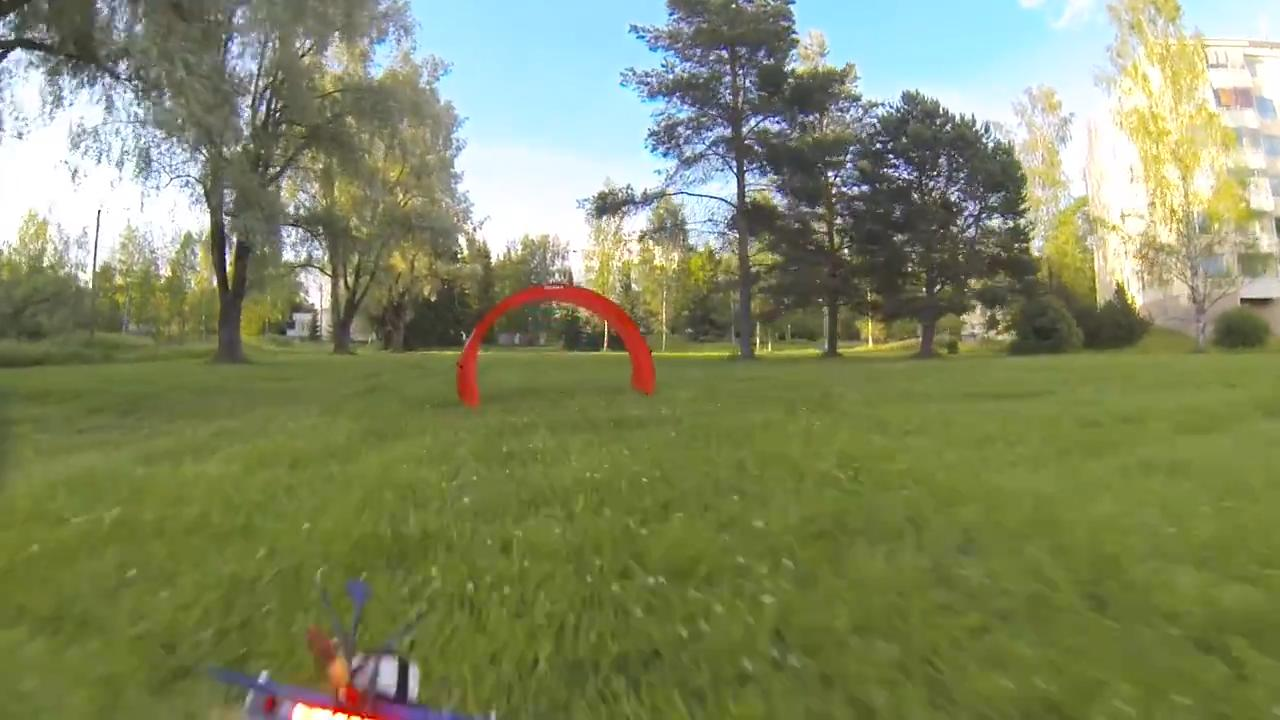gate: (454, 281, 656, 410)
